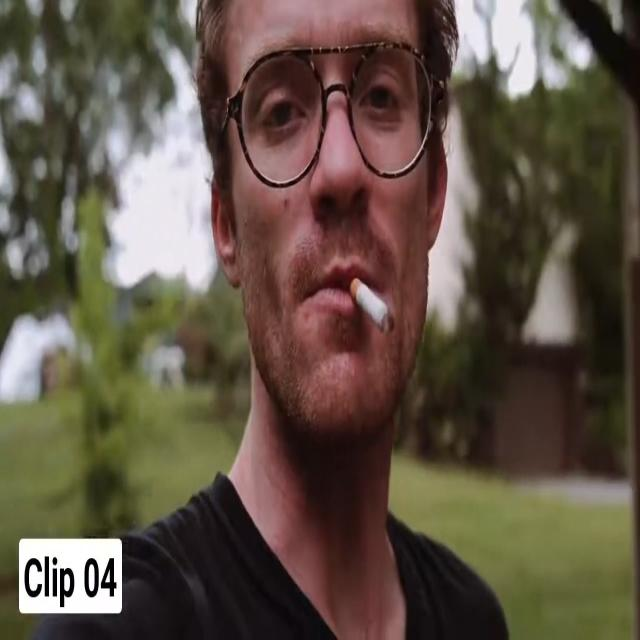Курение: (346, 273, 394, 335)
